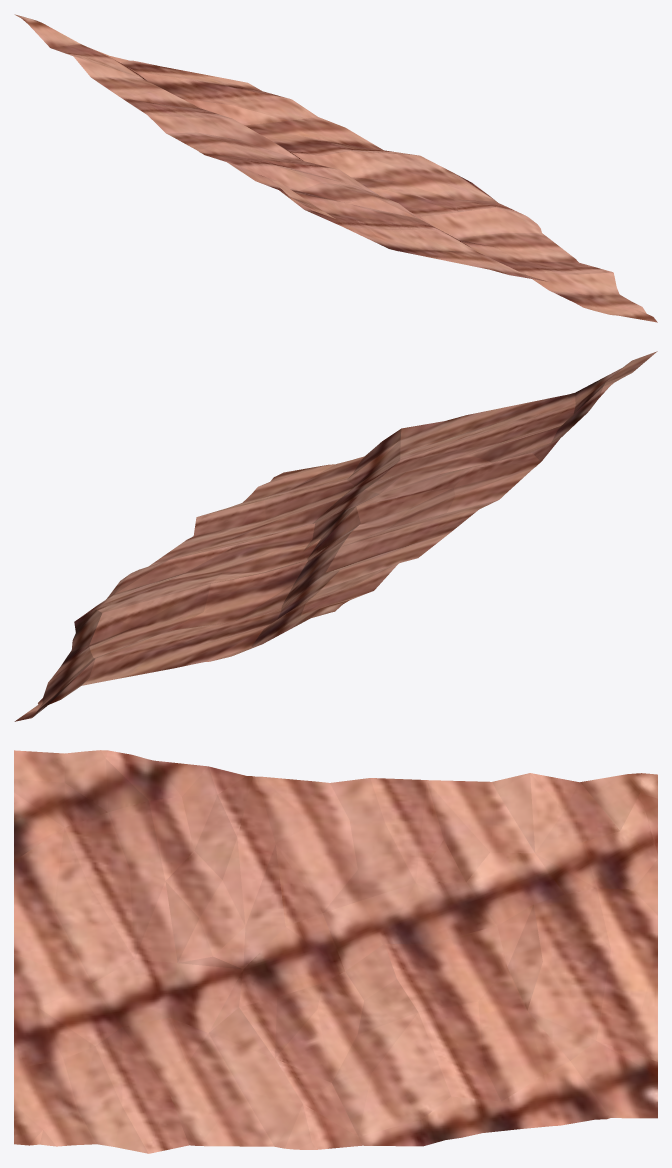
The picture shows the model from 3 angles, top to bottom: view 1: azimuth 30°, elevation 25°; view 2: azimuth 150°, elevation 25°; view 3: azimuth 270°, elevation 25°; orthographic projection. The views are drawn at different scales.
Bounding box in the file's own units: 0.5892 × 0.3044 × 0.8373.
Materials: 2 (2 with a texture image).
